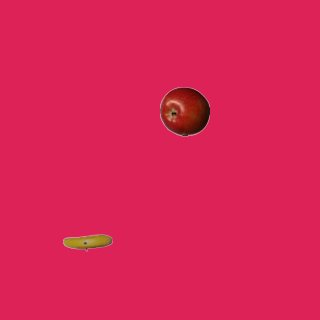Apple Braeburn: (159, 86, 209, 136)
Banana: (62, 217, 112, 267)
